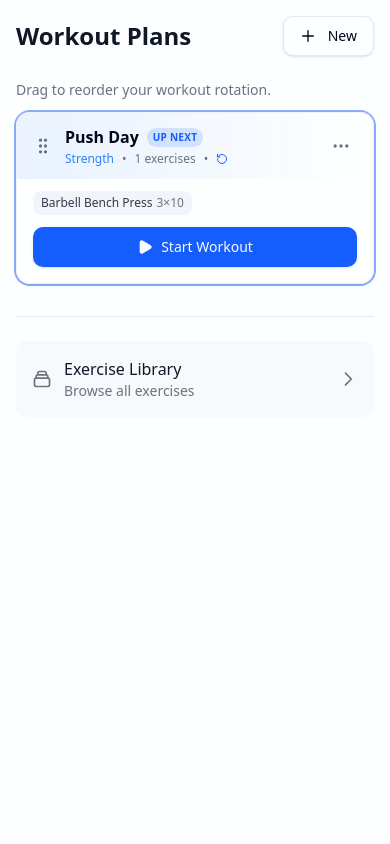
Test: WorkoutPlans › List View › clicking edit in menu enters edit mode with template data
Note: Open the dropdown menu (the small button with p-1.5 class)
Click the 3rd button at x=341, y=146, box [325,130,357,162]
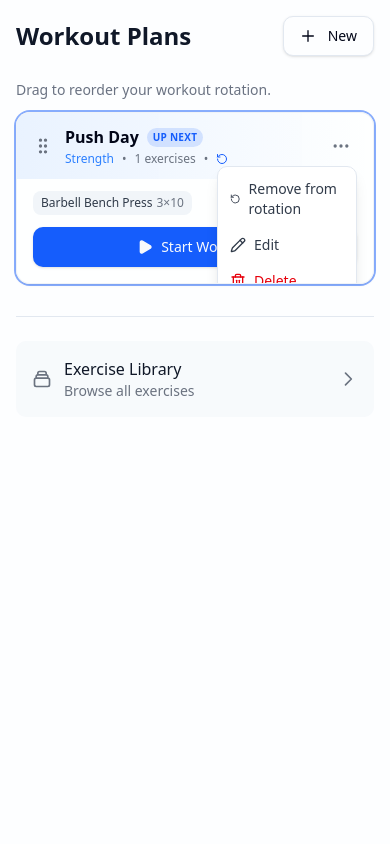
Note: Click Edit in the dropdown
Click the button "Edit" at x=287, y=245, box [218,227,356,263]
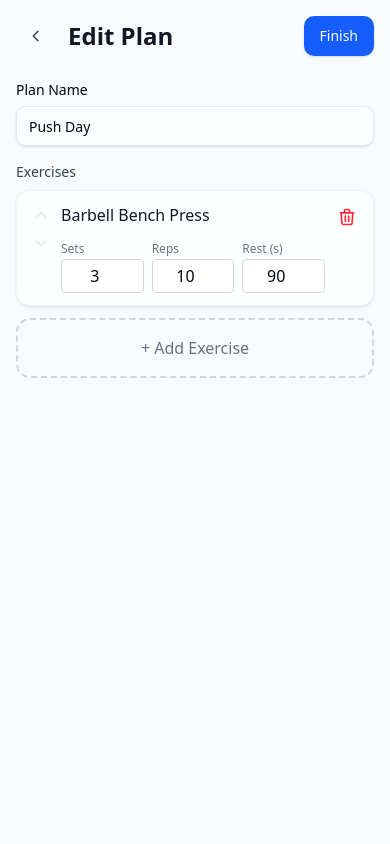
Check: the heading "Edit Plan" is shown, box [68,20,173,52]
Check: the field showing "Push Day" is shown, box [16,106,374,146]
